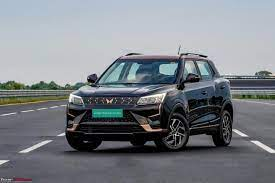XUV 400: (65, 45, 233, 151)
